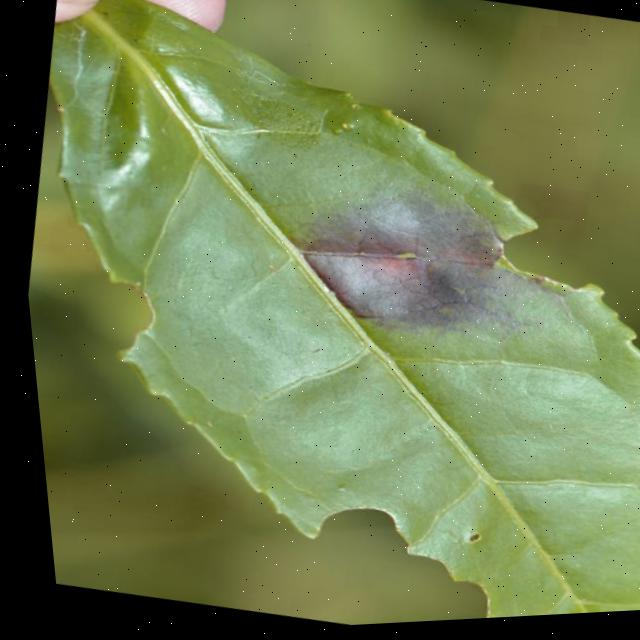Tea exobasidium blight: (274, 172, 526, 382)
